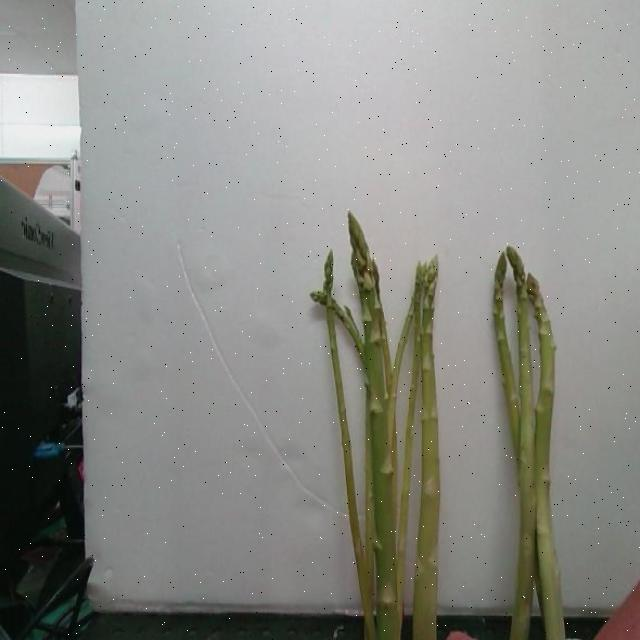aspargus: (349, 214, 403, 640), (528, 270, 567, 640), (409, 255, 443, 640)
